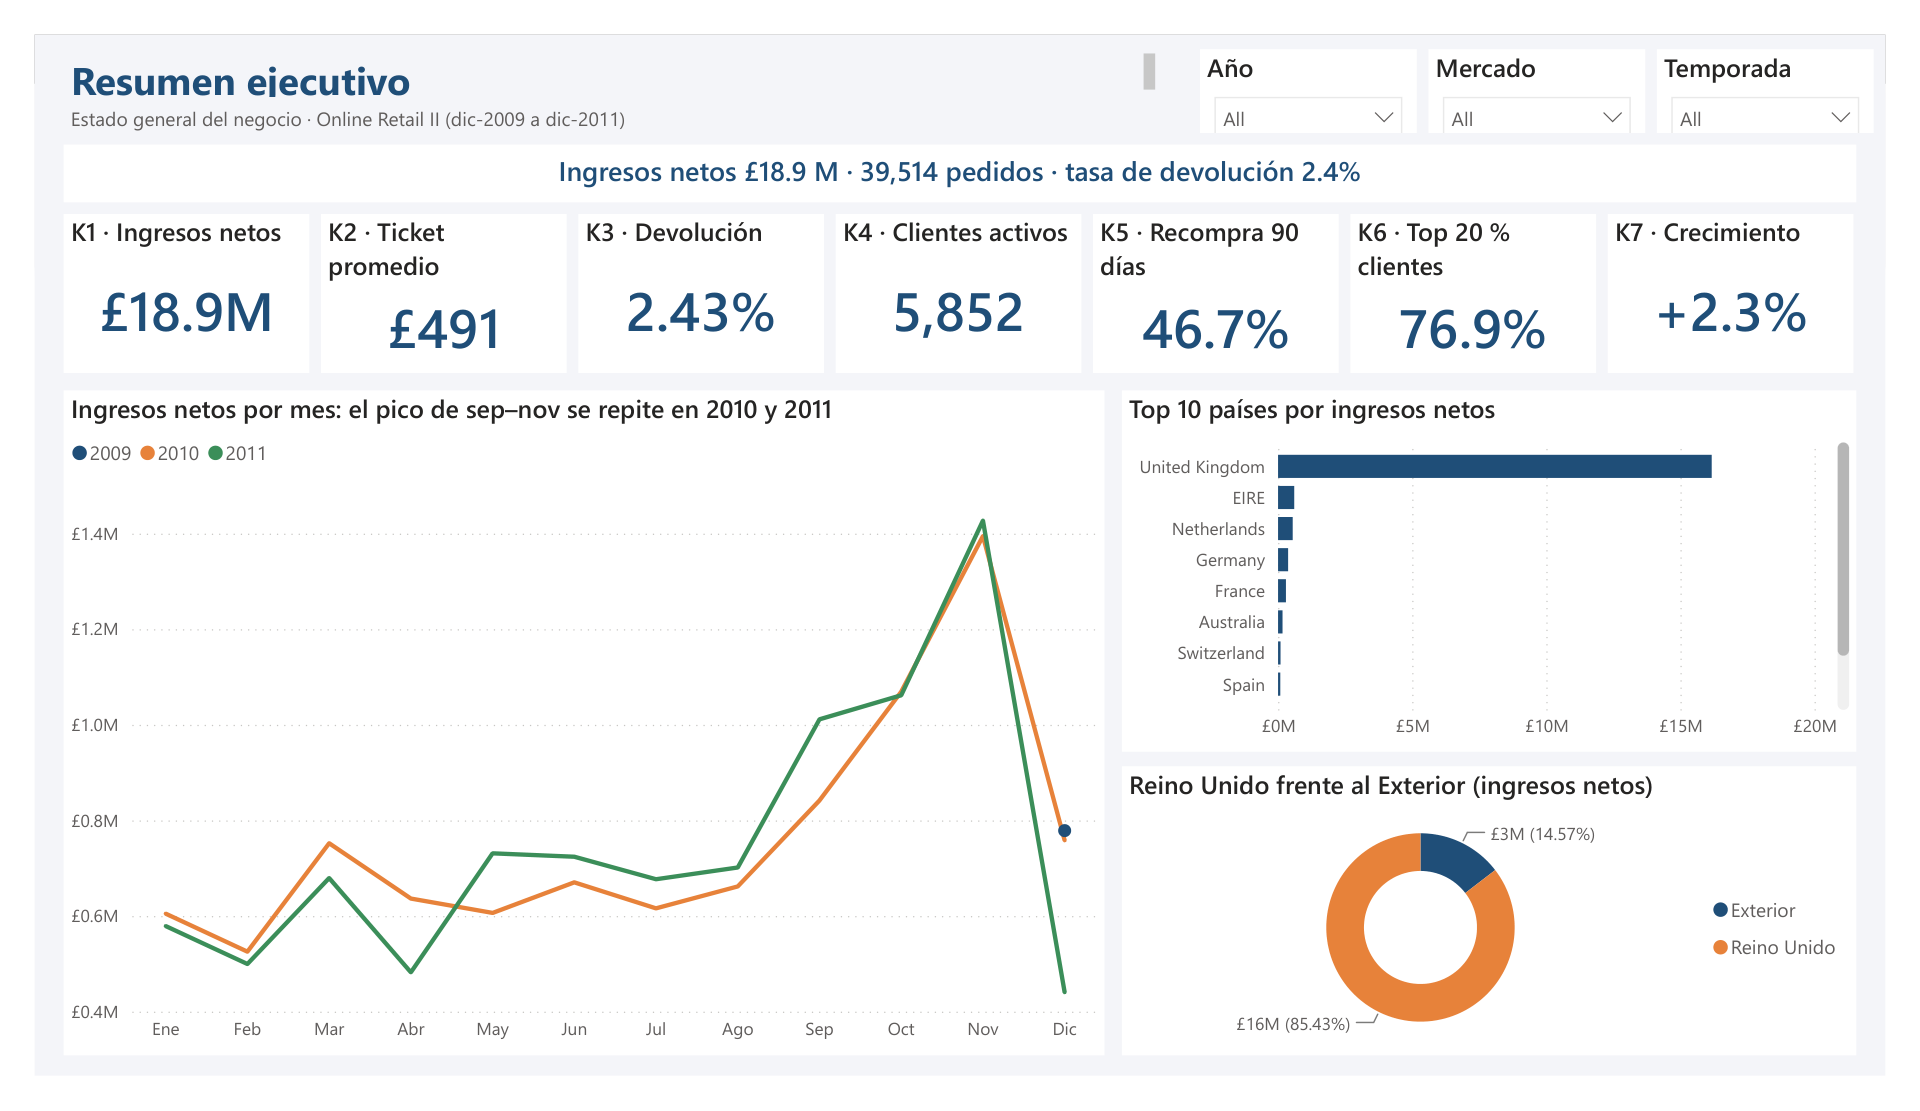

Layout of this report page (visuals, bound fields, positions):
{"tool":"powerbi","page":{"name":"Resumen ejecutivo","canvas":[1280,720],"ordinal":0},"visuals":[{"type":"textbox","box":[20,8,760,40],"z":1000},{"type":"textbox","box":[20,44,760,28],"z":2000},{"type":"slicer","title":"Año","fields":{"Values":["dim_fecha.anio"]},"box":[806,10,150,58],"z":3000},{"type":"slicer","title":"Mercado","fields":{"Values":["dim_pais.pais_grupo"]},"box":[964,10,150,58],"z":4000},{"type":"slicer","title":"Temporada","fields":{"Values":["dim_fecha.temporada"]},"box":[1122,10,150,58],"z":5000},{"type":"card","fields":{"Values":["_Medidas.Titulo Ejecutivo"]},"box":[20,76,1240,40],"z":6000},{"type":"card","title":"K1 · Ingresos netos","fields":{"Values":["_Medidas.Ingresos Netos"]},"box":[20,124,170,110],"z":7000},{"type":"card","title":"K2 · Ticket promedio","fields":{"Values":["_Medidas.Ticket Promedio"]},"box":[198,124,170,110],"z":8000},{"type":"card","title":"K3 · Devolución","fields":{"Values":["_Medidas.Tasa Devolución"]},"box":[376,124,170,110],"z":9000},{"type":"card","title":"K4 · Clientes activos","fields":{"Values":["_Medidas.Clientes Activos"]},"box":[554,124,170,110],"z":10000},{"type":"card","title":"K5 · Recompra 90 días","fields":{"Values":["_Medidas.Tasa Recompra 90d"]},"box":[732,124,170,110],"z":11000},{"type":"card","title":"K6 · Top 20 % clientes","fields":{"Values":["_Medidas.Concentración Top 20"]},"box":[910,124,170,110],"z":12000},{"type":"card","title":"K7 · Crecimiento","fields":{"Values":["_Medidas.Crecimiento Interanual"]},"box":[1088,124,170,110],"z":13000},{"type":"lineChart","title":"Ingresos netos por mes: el pico de sep–nov se repite en 2010 y 2011","fields":{"Category":["dim_fecha.mes"],"Y":["_Medidas.Ingresos Netos"],"Series":["dim_fecha.anio"]},"box":[20,246,720,460],"z":14000},{"type":"clusteredBarChart","title":"Top 10 países por ingresos netos","fields":{"Category":["dim_pais.pais"],"Y":["_Medidas.Ingresos Top 10 Países"]},"box":[752,246,508,250],"z":15000},{"type":"donutChart","title":"Reino Unido frente al Exterior (ingresos netos)","fields":{"Category":["dim_pais.pais_grupo"],"Y":["_Medidas.Ingresos Netos"]},"box":[752,506,508,200],"z":16000}]}

Visuals, with their boxes in screenshot pixels (x1, y1, x2, y2), scaled from the page's 1280x720 canvas onto the 1920x1111 screenshot:
textbox: [30,12,1170,74]
textbox: [30,68,1170,111]
"Año" slicer: [1209,15,1434,105]
"Mercado" slicer: [1446,15,1671,105]
"Temporada" slicer: [1683,15,1908,105]
card - _Medidas.Titulo Ejecutivo: [30,117,1890,179]
"K1 · Ingresos netos" card: [30,191,285,361]
"K2 · Ticket promedio" card: [297,191,552,361]
"K3 · Devolución" card: [564,191,819,361]
"K4 · Clientes activos" card: [831,191,1086,361]
"K5 · Recompra 90 días" card: [1098,191,1353,361]
"K6 · Top 20 % clientes" card: [1365,191,1620,361]
"K7 · Crecimiento" card: [1632,191,1887,361]
"Ingresos netos por mes: el pico de sep–nov se repite en 2010 y 2011" lineChart: [30,380,1110,1089]
"Top 10 países por ingresos netos" clusteredBarChart: [1128,380,1890,765]
"Reino Unido frente al Exterior (ingresos netos)" donutChart: [1128,781,1890,1089]
